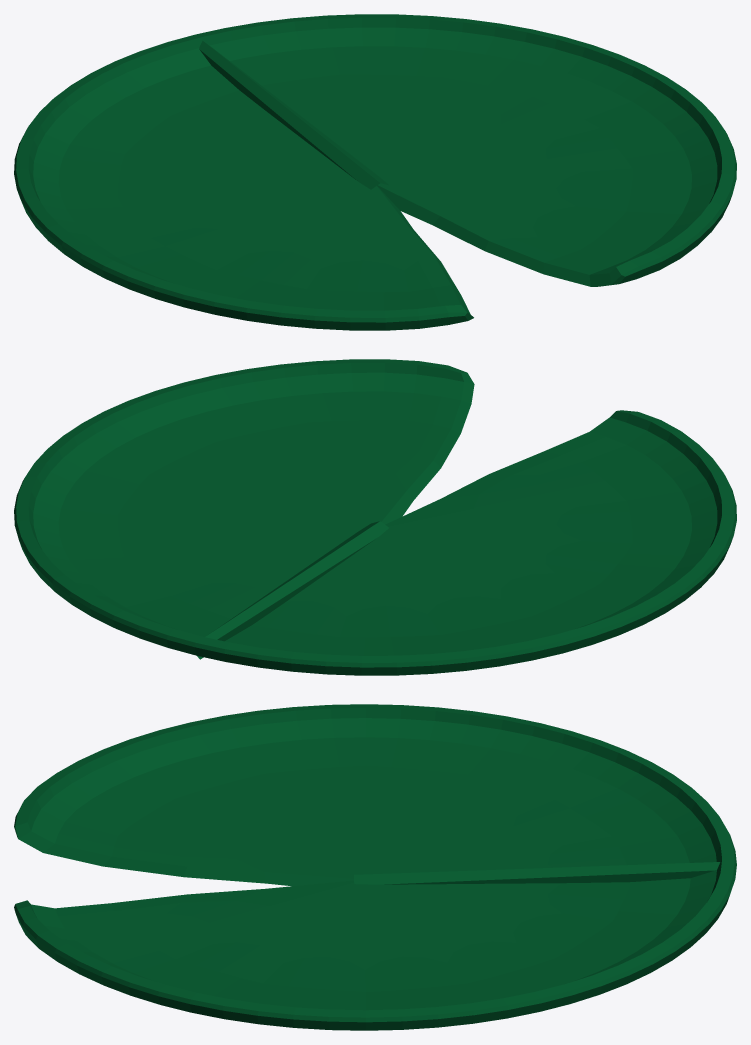
The model's file is lilypad.glb.
3 views of the same model, one above another, from view 1: azimuth 30°, elevation 25°; view 2: azimuth 150°, elevation 25°; view 3: azimuth 270°, elevation 25° (orthographic). The views are drawn at different scales.
Parts seen in each view (by area): view 1: Lilypad; view 2: Lilypad; view 3: Lilypad.
Boxes of the visible parts, left/top/right/bottom form: Lilypad: left=14, top=14, right=736, bottom=330; Lilypad: left=14, top=359, right=736, bottom=675; Lilypad: left=14, top=704, right=736, bottom=1030.
Bounding box in the file's own units: 2.08 × 0.1102 × 2.01.
